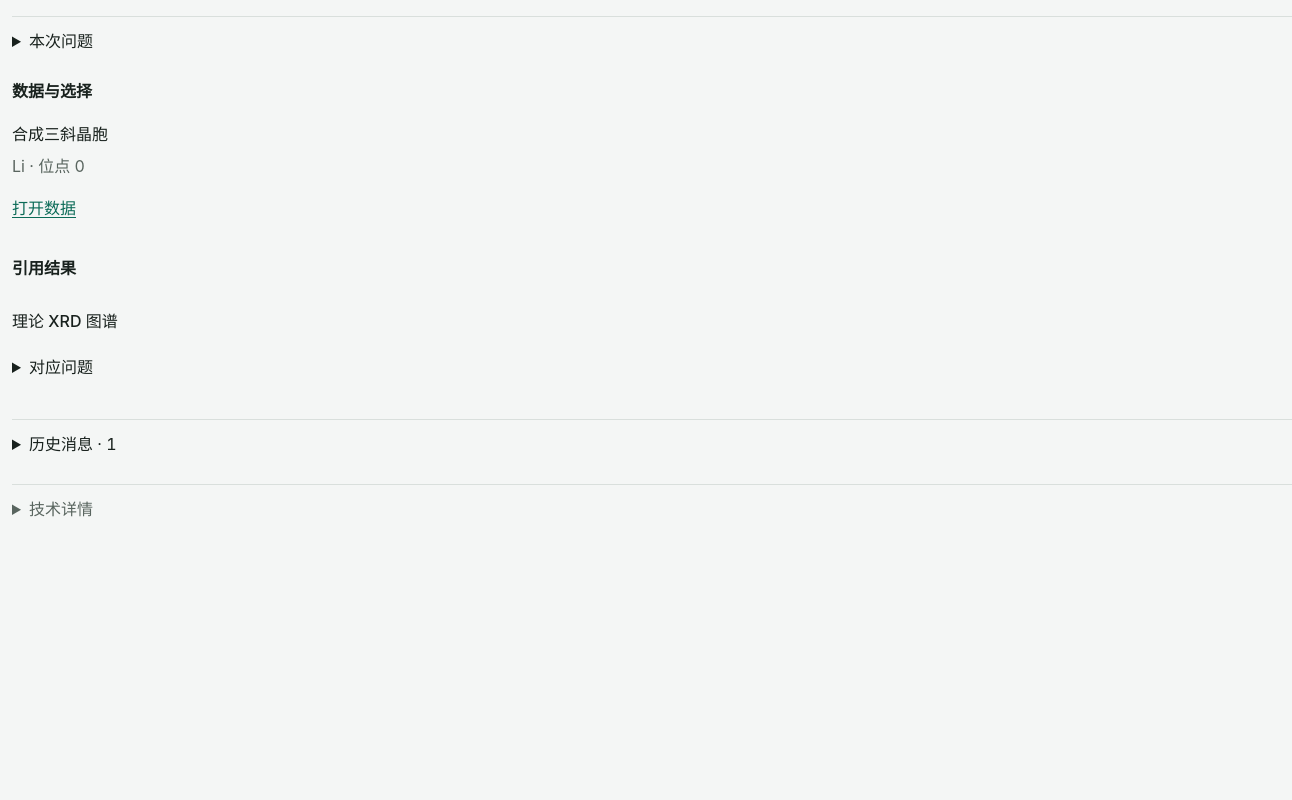
Test: shows named source, selection and result without permanent provenance descriptions
Expected: the text "合成三斜晶胞" is shown, [12,124,108,144]
Expected: the text "Li · 位点 0" is shown, [12,156,85,176]
Click the heading "历史消息 · 1" at (73, 444), box [29,434,116,454]
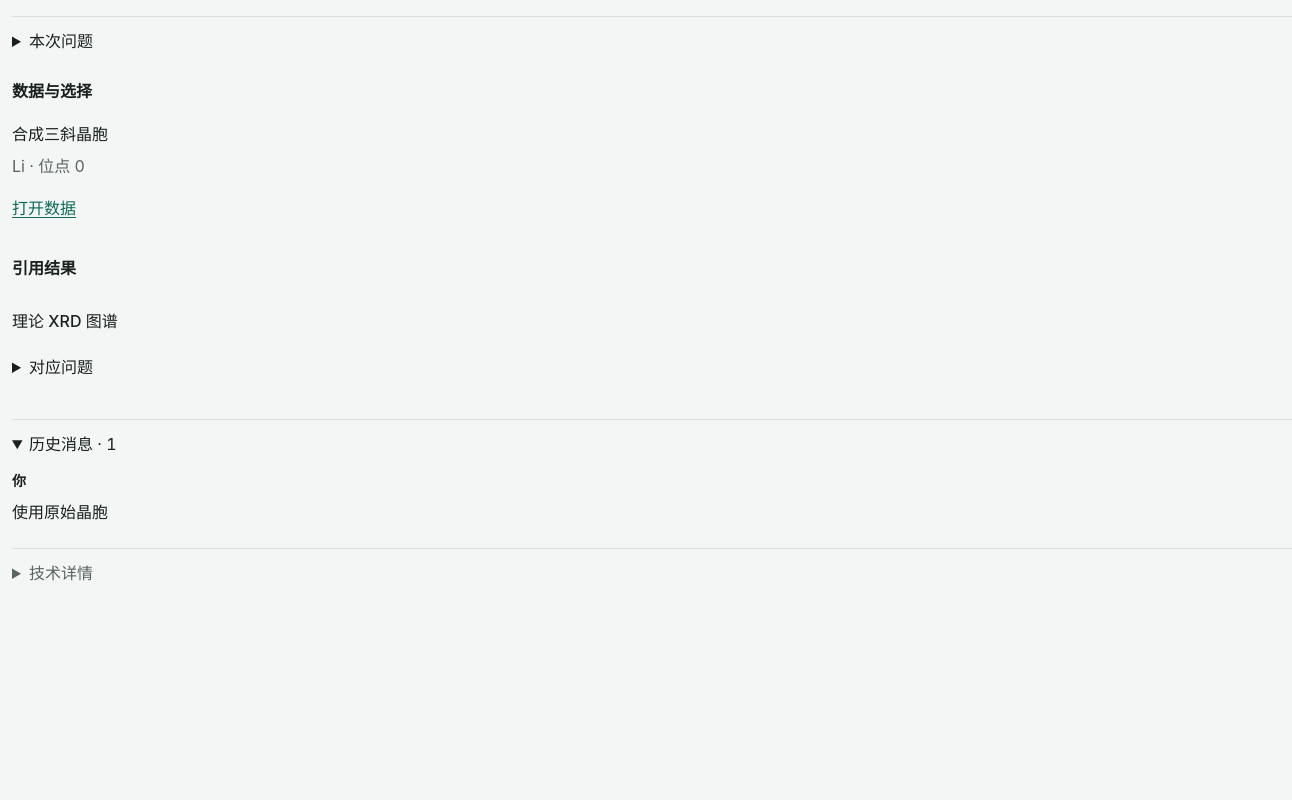
Result: the text "使用原始晶胞" is shown at [12,502,108,522]
